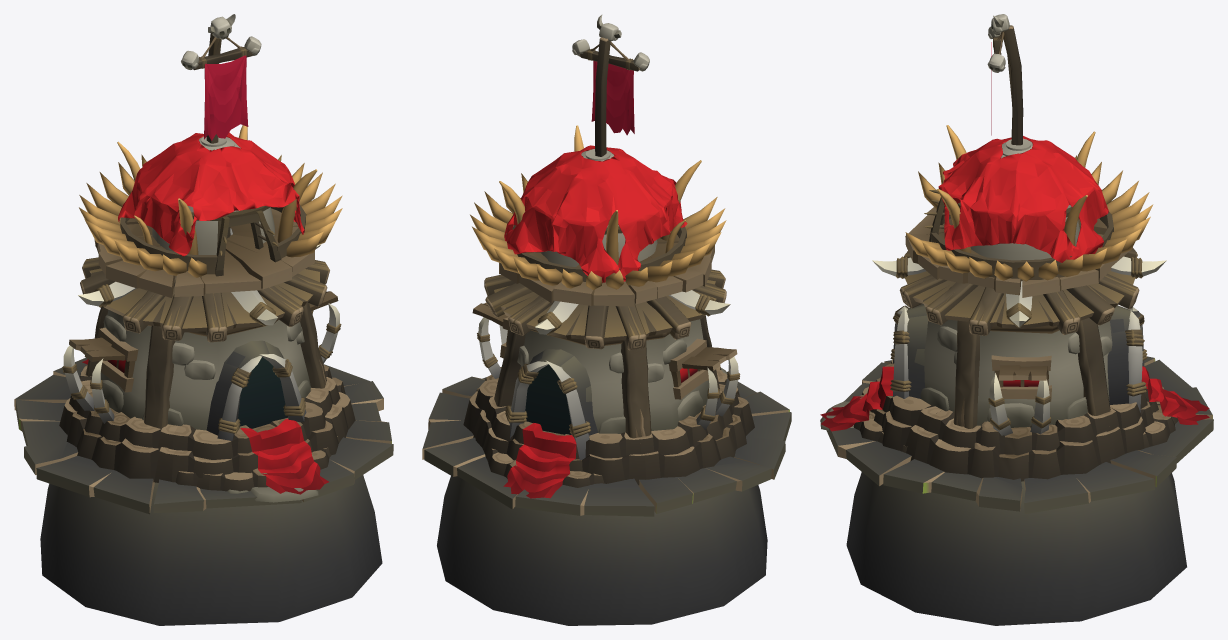
File: Galvadore_building.fbx
3 views of the same model, side by side, from view 1: azimuth 30°, elevation 25°; view 2: azimuth 150°, elevation 25°; view 3: azimuth 270°, elevation 25° (orthographic). The views are drawn at different scales.
Visible parts, largest first — view 1: Galvadore_building01; view 2: Galvadore_building01; view 3: Galvadore_building01.
Part boxes in pixels (x1,y1,x2,y2): Galvadore_building01: (14,14,393,625); Galvadore_building01: (422,14,791,625); Galvadore_building01: (820,14,1213,625).
Size of the model in its own units: 173 by 266 by 174.
Materials: 2 (2 with a texture image).
